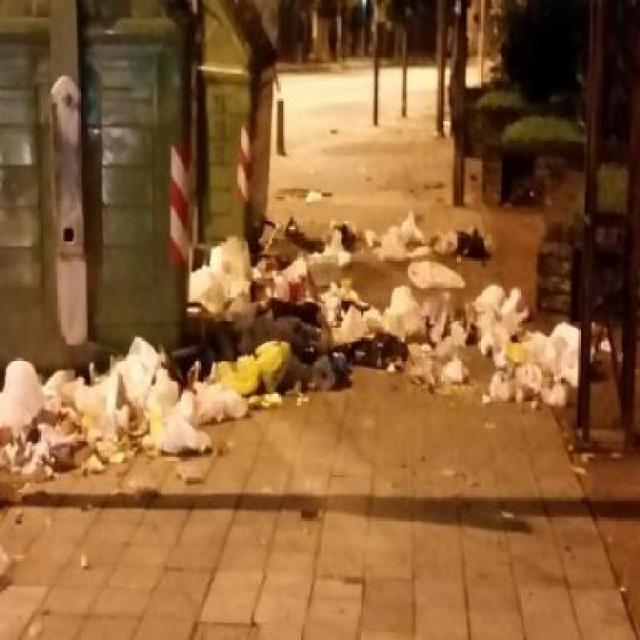garbage: (340, 234, 571, 432), (11, 311, 268, 470), (209, 199, 369, 392)
